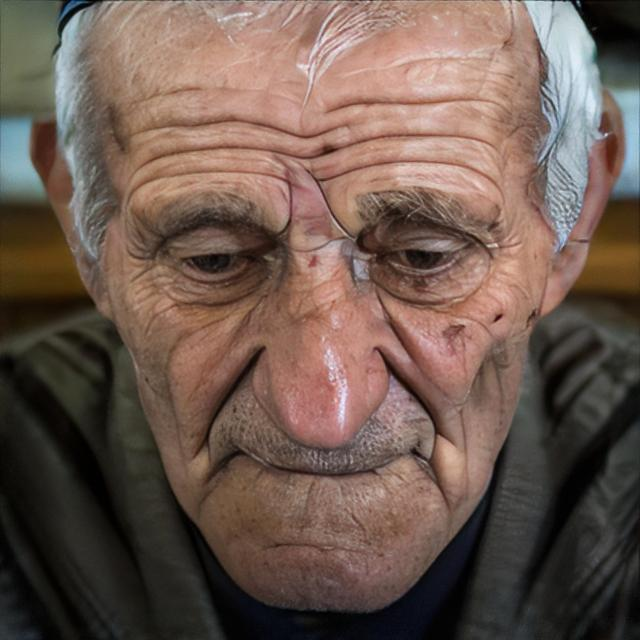sad: (102, 1, 538, 601)
